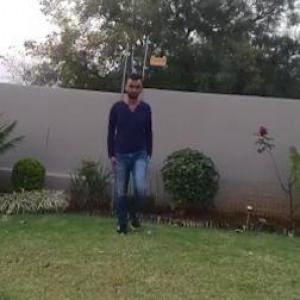follow: (106, 69, 162, 243)
